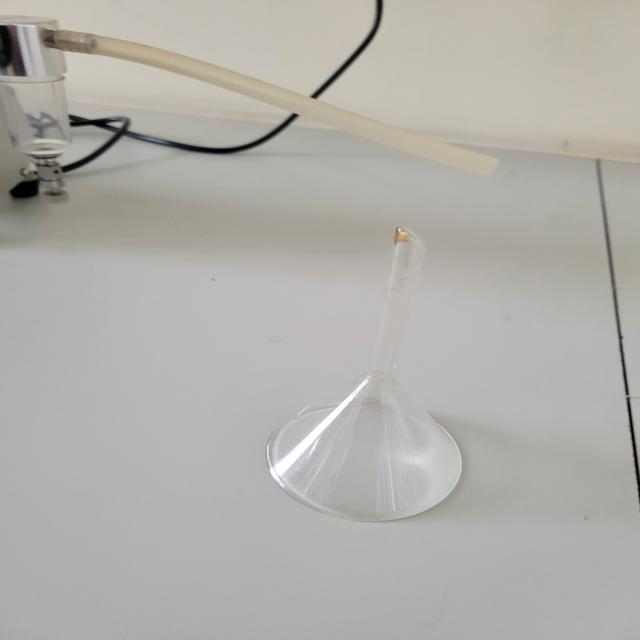Funnel: (233, 184, 512, 550)
